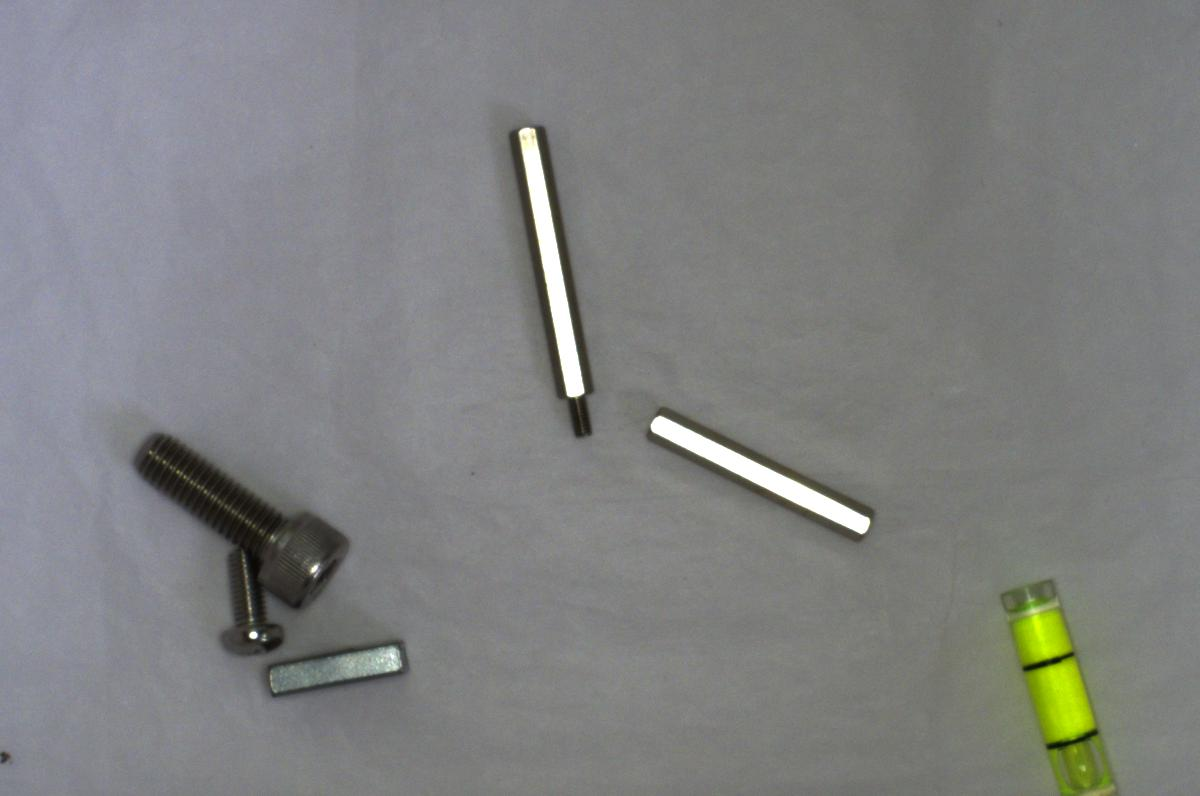Double hexagonal column: (635, 402, 885, 547)
Hexagon screw: (119, 428, 352, 605)
Hexagonal steel column: (506, 120, 597, 445)
Horizontal bubble: (987, 567, 1130, 795)
Rectangular nut: (259, 635, 407, 700)
Round head screw: (207, 539, 285, 659)
